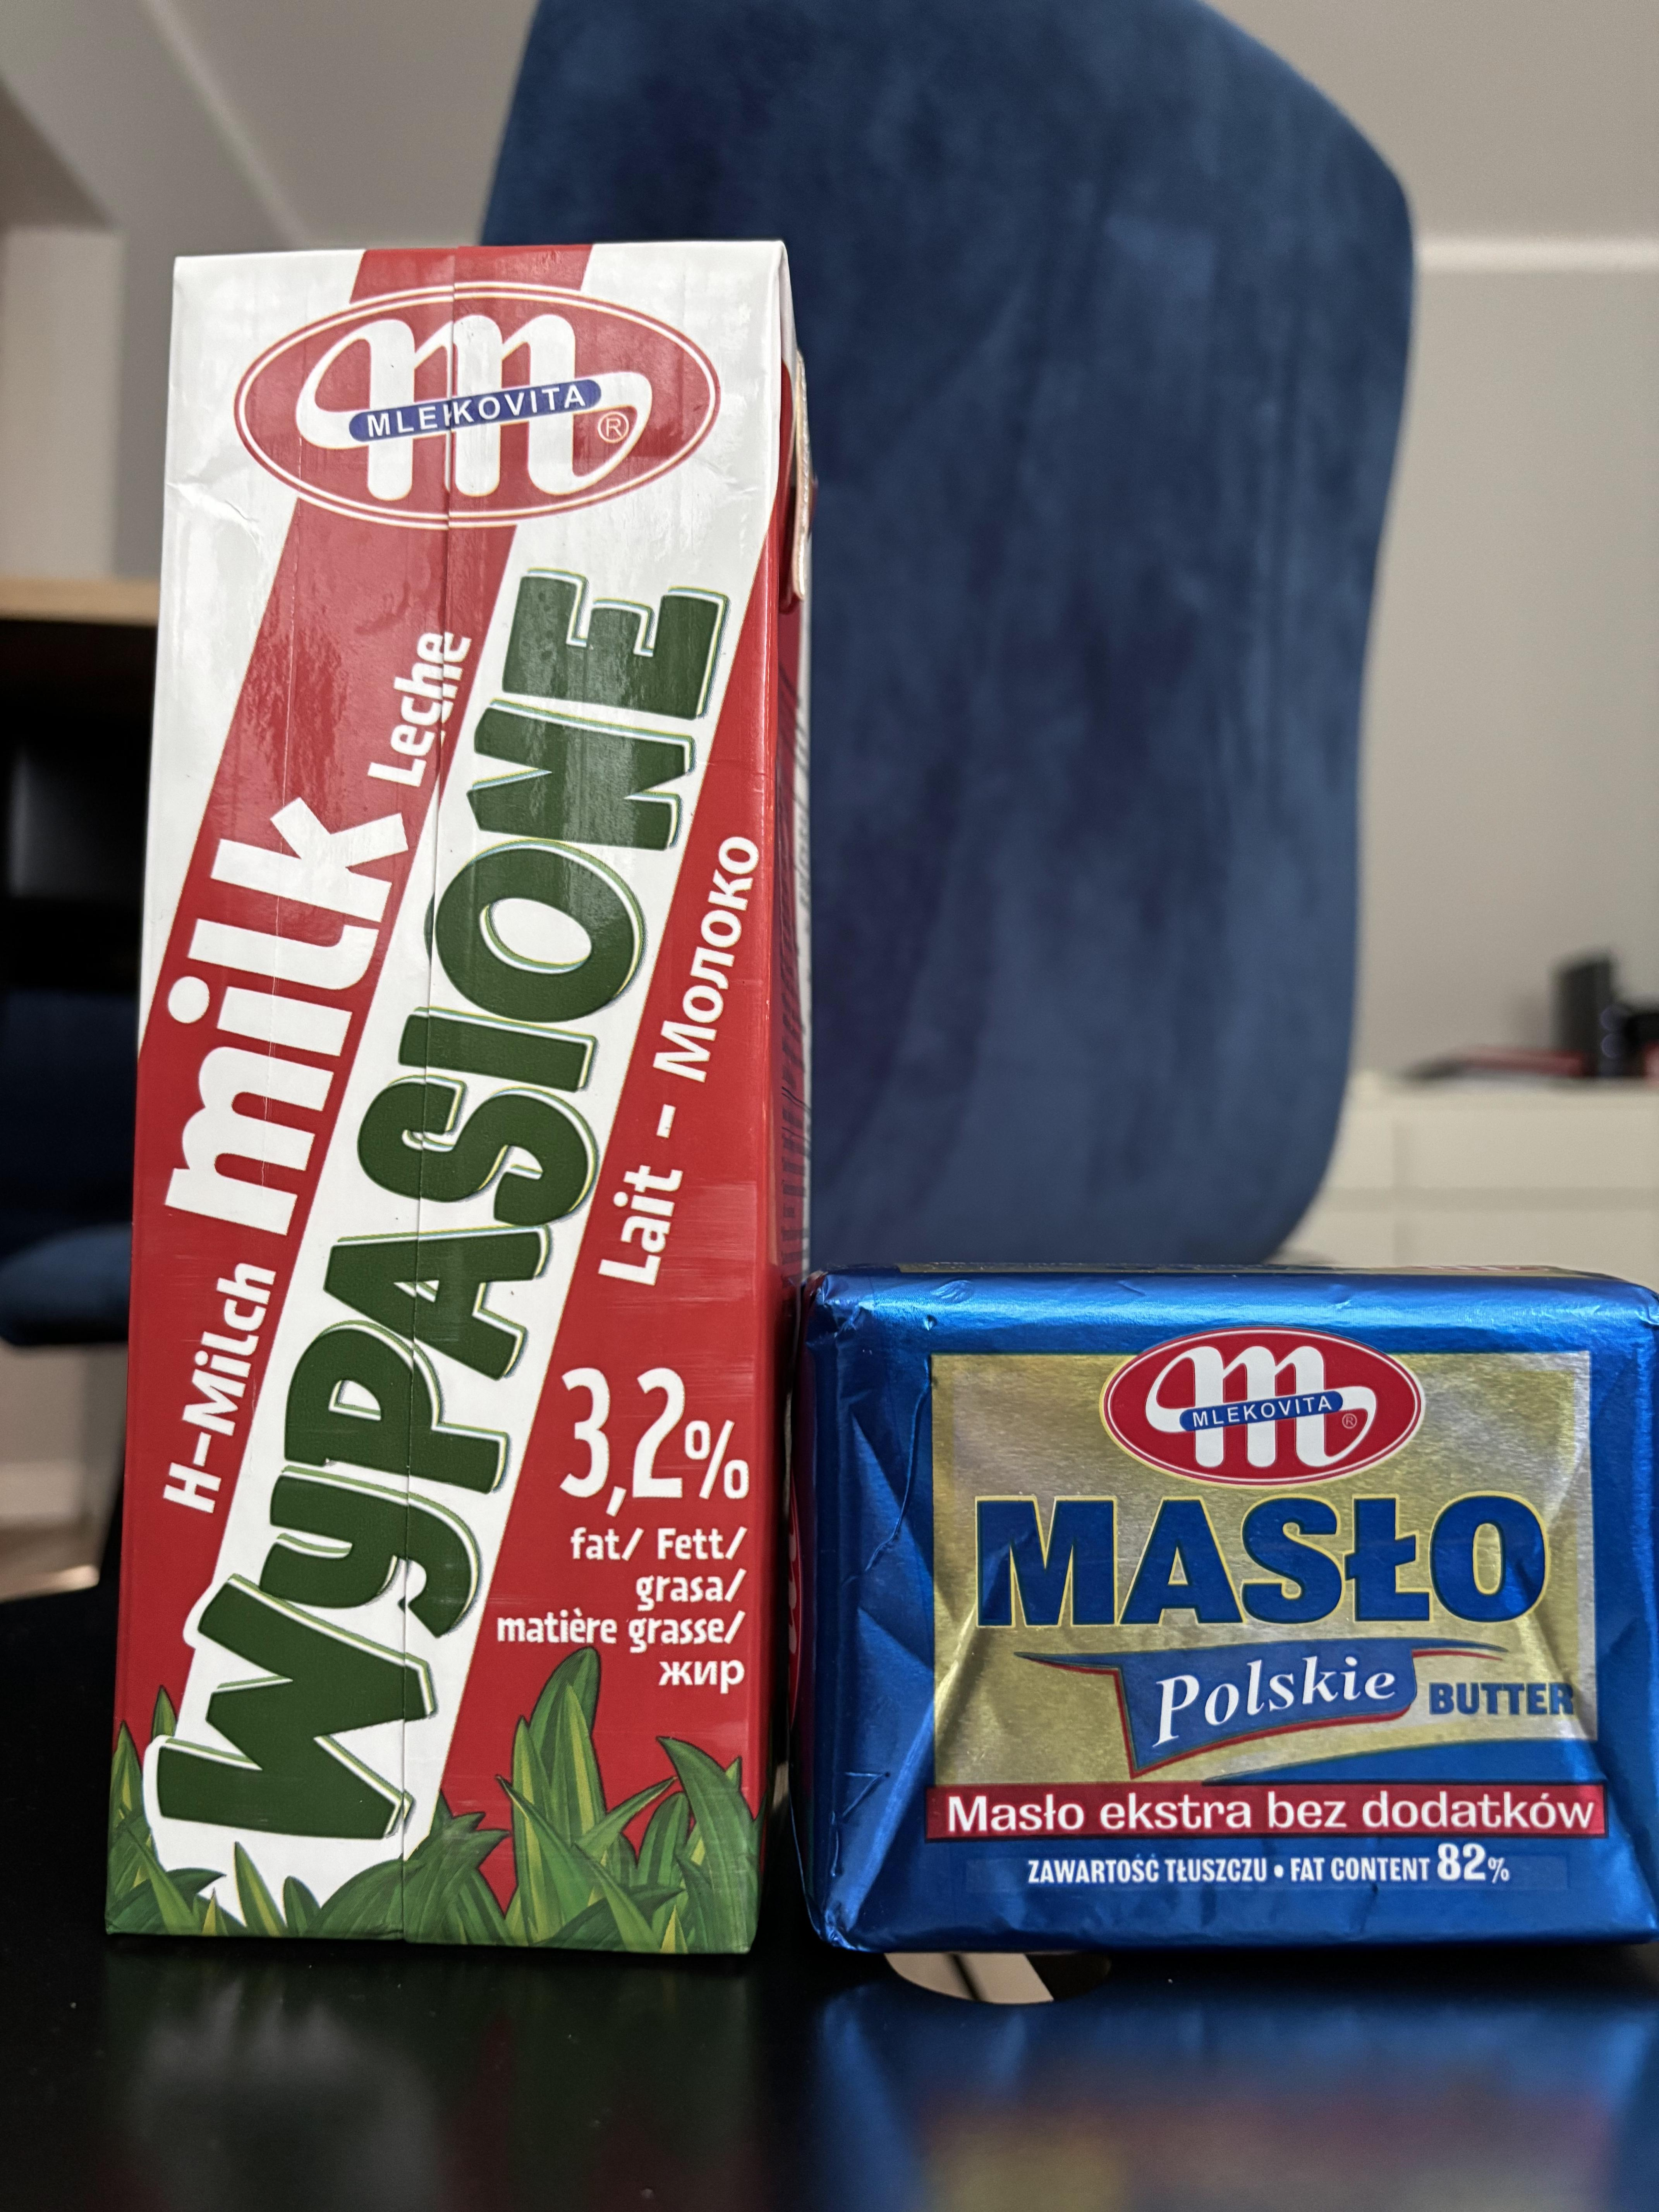Milk: (141, 235, 788, 1949)
